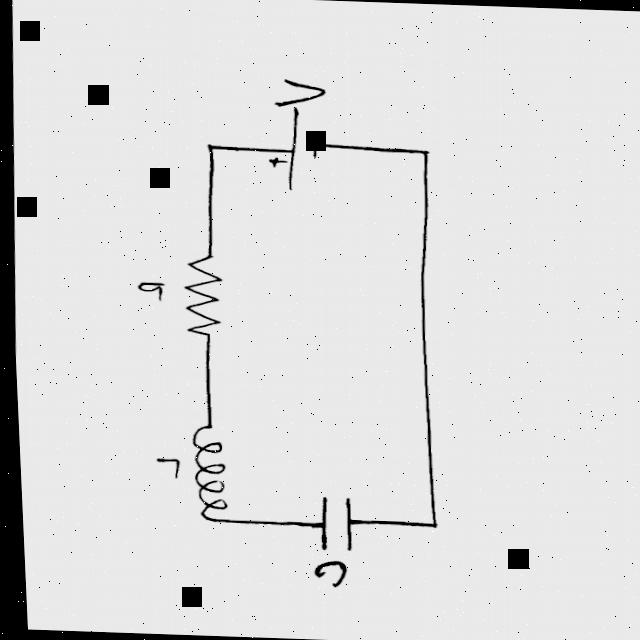capacitor: (309, 493, 350, 552)
inductor: (184, 423, 223, 524)
junction: (420, 518, 435, 531), (201, 142, 215, 153), (416, 148, 428, 156)
resistor: (173, 247, 221, 343)
source: (264, 104, 320, 192)
text: (271, 77, 325, 107), (307, 559, 340, 587), (131, 276, 162, 303), (147, 455, 177, 481)
